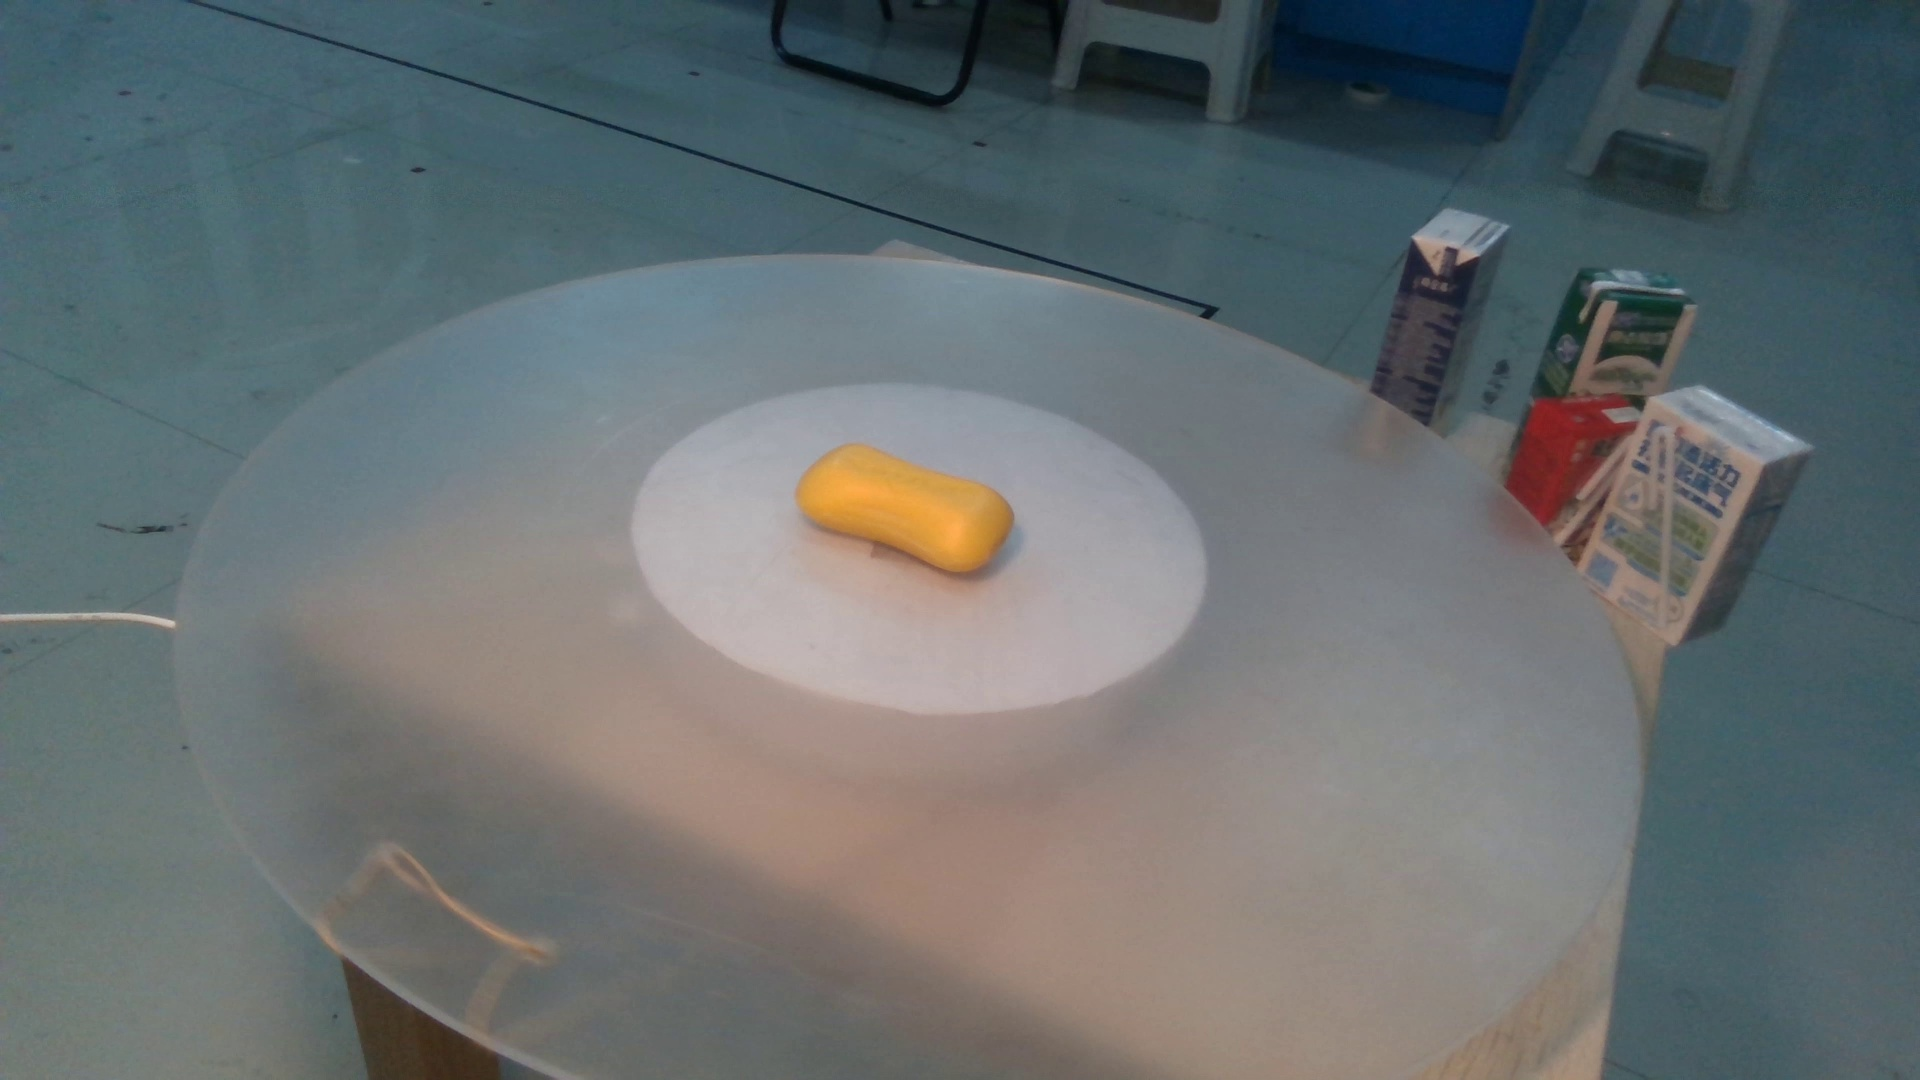CA003_1: (779, 427, 1029, 595)
